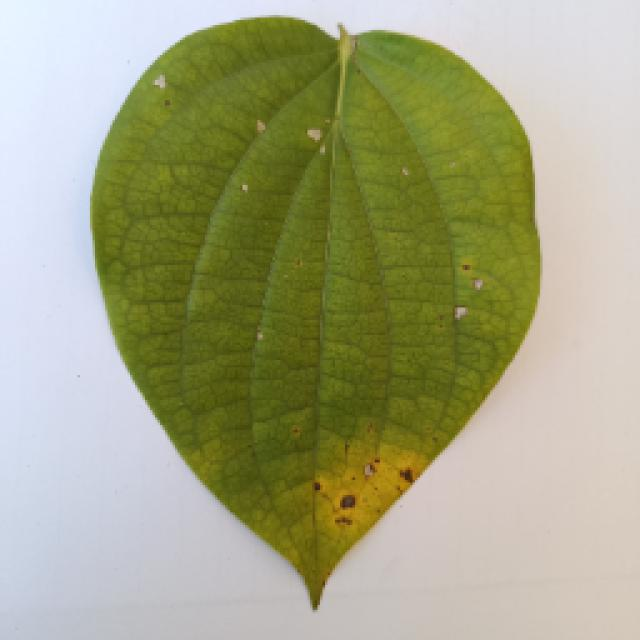slow-decline: (60, 30, 558, 615)
